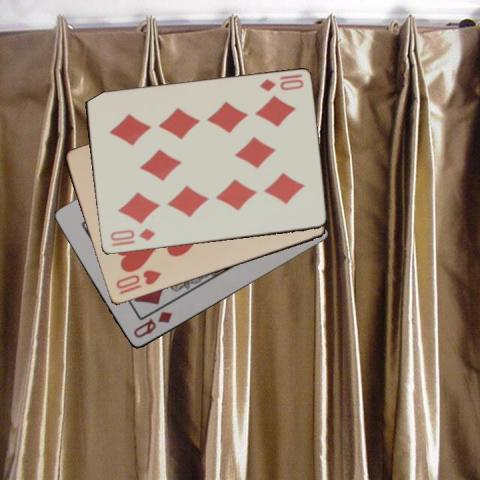10d: (107, 226, 156, 243), (256, 76, 304, 93)
10h: (113, 267, 163, 297)
Qd: (130, 309, 173, 340)
